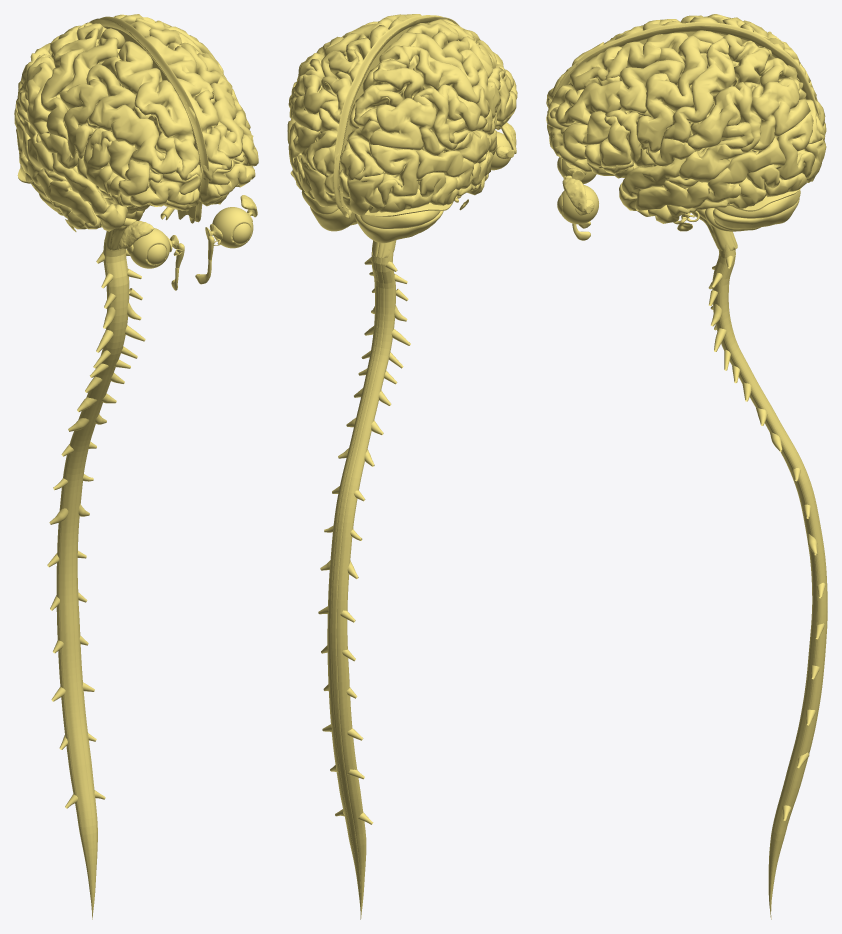
Rendered from organes-snc.glb.
3 renders of one model, left to right at view 1: azimuth 30°, elevation 25°; view 2: azimuth 150°, elevation 25°; view 3: azimuth 270°, elevation 25°, orthographic. The views are drawn at different scales.
Parts seen in each view (by area): view 1: Spinal dura, Middle frontal gyrus.r, Superior frontal gyrus.r, Precentral gyrus.r, Superior frontal gyrus.l, Falx cerebri, Middle frontal gyrus.l, Postcentral gyrus.r, Middle temporal gyrus.r, Superior temporal gyrus (Lateral part).r, Supramarginal gyrus.r, Orbital gyri (Frontomarginal gyrus and sulcus*).r (+12 smaller); view 2: Spinal dura, Angular gyrus.r, Falx cerebri, Superior parietal lobule.r, Postcentral gyrus.r, Supramarginal gyrus.r, Lateral occipital gyrus (Middle occipital gyrus*).r, Middle temporal gyrus.r, Angular gyrus.l, Precentral gyrus.r, Superior parietal lobule.l, Inferior temporal gyrus.r (+18 smaller); view 3: Spinal dura, Middle frontal gyrus.l, Middle temporal gyrus.l, Precentral gyrus.l, Superior frontal gyrus.l, Falx cerebri, Postcentral gyrus.l, Angular gyrus.l, Supramarginal gyrus.l, Superior temporal gyrus (Lateral part).l, Inferior temporal gyrus.l, Superior parietal lobule.l (+12 smaller).
Boxes of the visible parts, x1=… form: Spinal dura: x1=47, y1=240, x2=145, y2=918; Middle frontal gyrus.r: x1=86, y1=64, x2=182, y2=196; Superior frontal gyrus.r: x1=114, y1=41, x2=203, y2=182; Precentral gyrus.r: x1=60, y1=37, x2=118, y2=159; Superior frontal gyrus.l: x1=144, y1=36, x2=231, y2=181; Falx cerebri: x1=89, y1=16, x2=208, y2=223; Middle frontal gyrus.l: x1=179, y1=42, x2=258, y2=166; Postcentral gyrus.r: x1=41, y1=28, x2=98, y2=140; Middle temporal gyrus.r: x1=14, y1=108, x2=96, y2=226; Superior temporal gyrus (Lateral part).r: x1=20, y1=119, x2=109, y2=215; Supramarginal gyrus.r: x1=15, y1=56, x2=55, y2=136; Orbital gyri (Frontomarginal gyrus and sulcus*).r: x1=130, y1=176, x2=194, y2=206; Spinal dura: x1=318, y1=249, x2=410, y2=919; Angular gyrus.r: x1=369, y1=86, x2=445, y2=155; Falx cerebri: x1=333, y1=15, x2=459, y2=218; Superior parietal lobule.r: x1=353, y1=59, x2=423, y2=127; Postcentral gyrus.r: x1=402, y1=45, x2=489, y2=117; Supramarginal gyrus.r: x1=421, y1=84, x2=487, y2=150; Lateral occipital gyrus (Middle occipital gyrus*).r: x1=369, y1=144, x2=419, y2=205; Middle temporal gyrus.r: x1=416, y1=149, x2=493, y2=189; Angular gyrus.l: x1=289, y1=59, x2=337, y2=131; Precentral gyrus.r: x1=411, y1=33, x2=500, y2=118; Superior parietal lobule.l: x1=320, y1=49, x2=359, y2=120; Inferior temporal gyrus.r: x1=417, y1=172, x2=486, y2=205; Spinal dura: x1=708, y1=244, x2=827, y2=919; Middle frontal gyrus.l: x1=549, y1=59, x2=684, y2=159; Middle temporal gyrus.l: x1=635, y1=137, x2=785, y2=211; Precentral gyrus.l: x1=636, y1=35, x2=711, y2=153; Superior frontal gyrus.l: x1=546, y1=32, x2=688, y2=122; Falx cerebri: x1=552, y1=22, x2=820, y2=168; Postcentral gyrus.l: x1=662, y1=38, x2=735, y2=142; Angular gyrus.l: x1=743, y1=78, x2=810, y2=151; Supramarginal gyrus.l: x1=687, y1=82, x2=761, y2=153; Superior temporal gyrus (Lateral part).l: x1=622, y1=144, x2=744, y2=198; Inferior temporal gyrus.l: x1=648, y1=164, x2=781, y2=223; Superior parietal lobule.l: x1=734, y1=42, x2=803, y2=90.
Bounding box in the file's own units: 0.1371 × 0.6408 × 0.1825.
